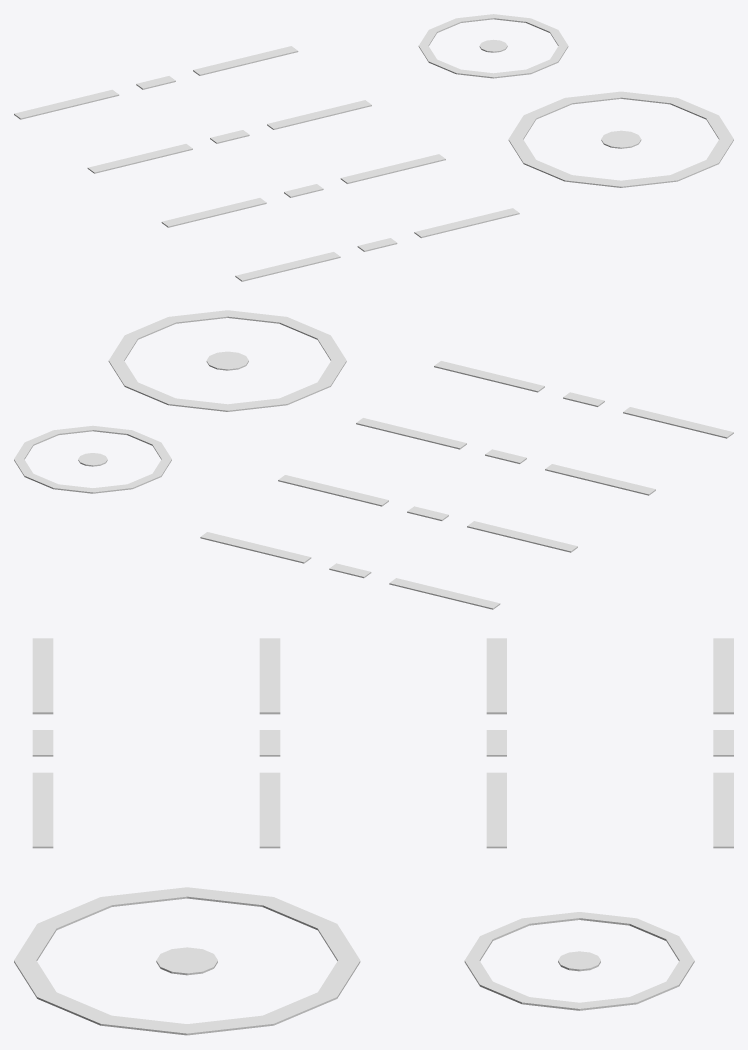
Rendered from KAC_Stove_HeatingTop_V5.glb.
The picture shows the model from 3 angles, top to bottom: view 1: azimuth 30°, elevation 25°; view 2: azimuth 150°, elevation 25°; view 3: azimuth 270°, elevation 25°; orthographic projection. The views are drawn at different scales.
Visible parts, largest first — view 1: KAC_Stove_HeatingTop_V5; view 2: KAC_Stove_HeatingTop_V5; view 3: KAC_Stove_HeatingTop_V5.
Part boxes in pixels (<box>): KAC_Stove_HeatingTop_V5: <box>14,14,733,281</box>; KAC_Stove_HeatingTop_V5: <box>14,310,733,609</box>; KAC_Stove_HeatingTop_V5: <box>14,638,733,1035</box>.
Size of the model in its own units: 0.4534 by 0.001 by 0.3491.
1 material, 1 textured.
